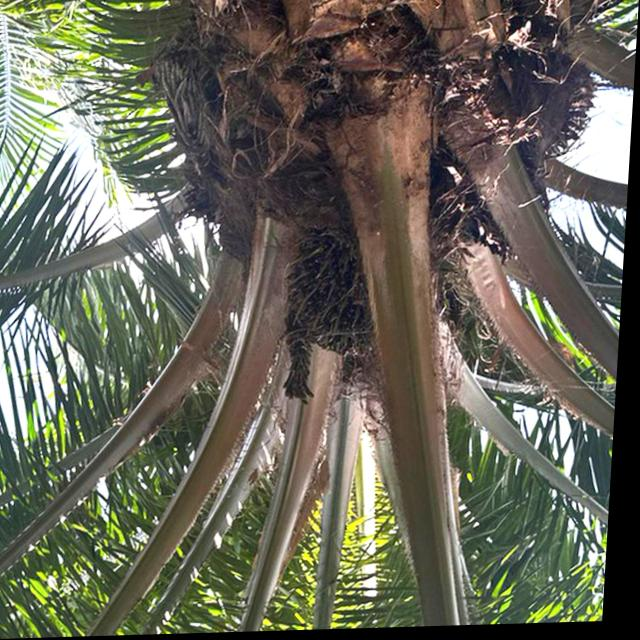unripe: (282, 229, 408, 364)
